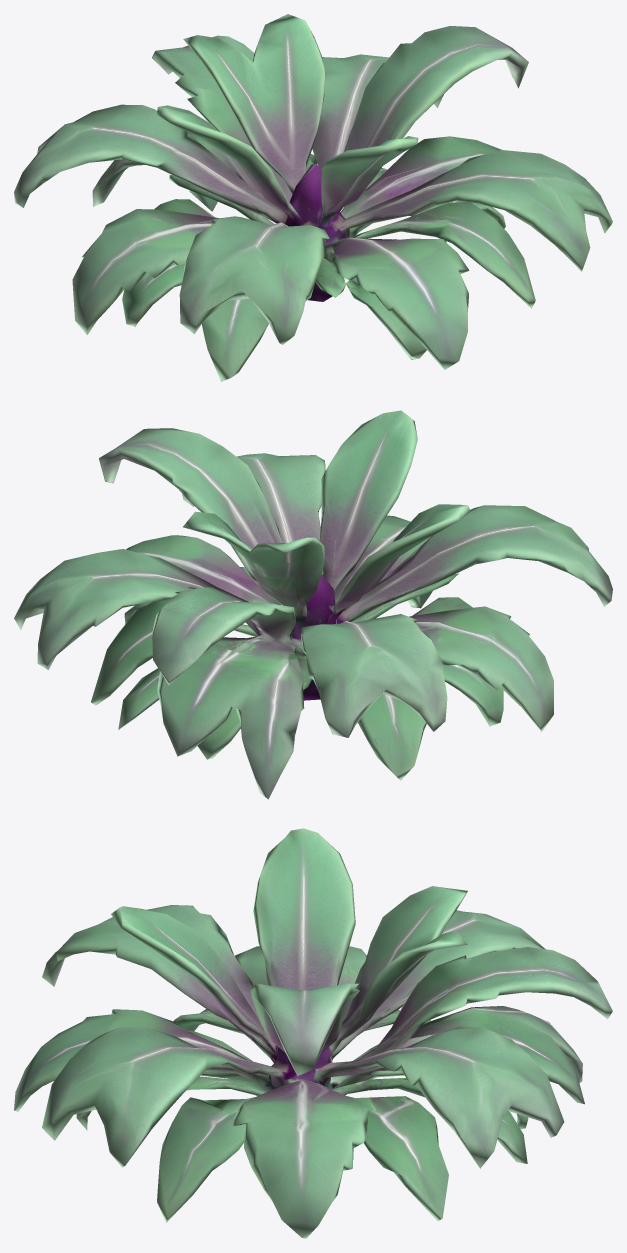
The picture shows the model from 3 angles, top to bottom: view 1: azimuth 30°, elevation 25°; view 2: azimuth 150°, elevation 25°; view 3: azimuth 270°, elevation 25°; orthographic projection. The views are drawn at different scales.
Visible parts, largest first — view 1: Mesh_0; view 2: Mesh_0; view 3: Mesh_0.
Part boxes in pixels (bbox=[...]): Mesh_0: bbox=[14, 14, 612, 381]; Mesh_0: bbox=[14, 410, 612, 799]; Mesh_0: bbox=[14, 828, 612, 1238].
Bounding box in the file's own units: 1.81 × 0.8449 × 1.92.
Materials: 1 (1 with a texture image).
